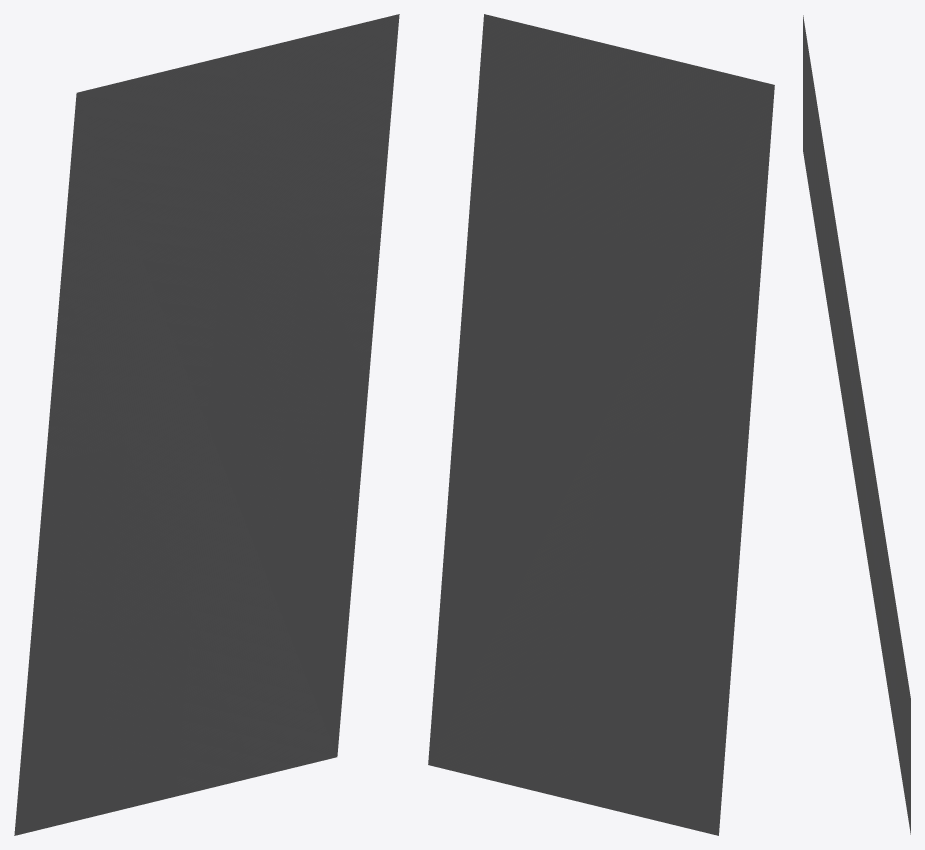
The model's file is secondary_198.glb.
The picture shows the model from 3 angles, left to right: view 1: azimuth 30°, elevation 25°; view 2: azimuth 150°, elevation 25°; view 3: azimuth 270°, elevation 25°; orthographic projection. The views are drawn at different scales.
Visible parts, largest first — view 1: Object; view 2: Object; view 3: Object.
Part boxes in pixels (x1,y1,x2,y2): Object: (14, 14, 399, 835); Object: (428, 14, 774, 835); Object: (803, 15, 910, 834).
Bounding box in the file's own units: 1.14 × 2.66 × 0.3794.
Materials: 1 (1 with a texture image).
